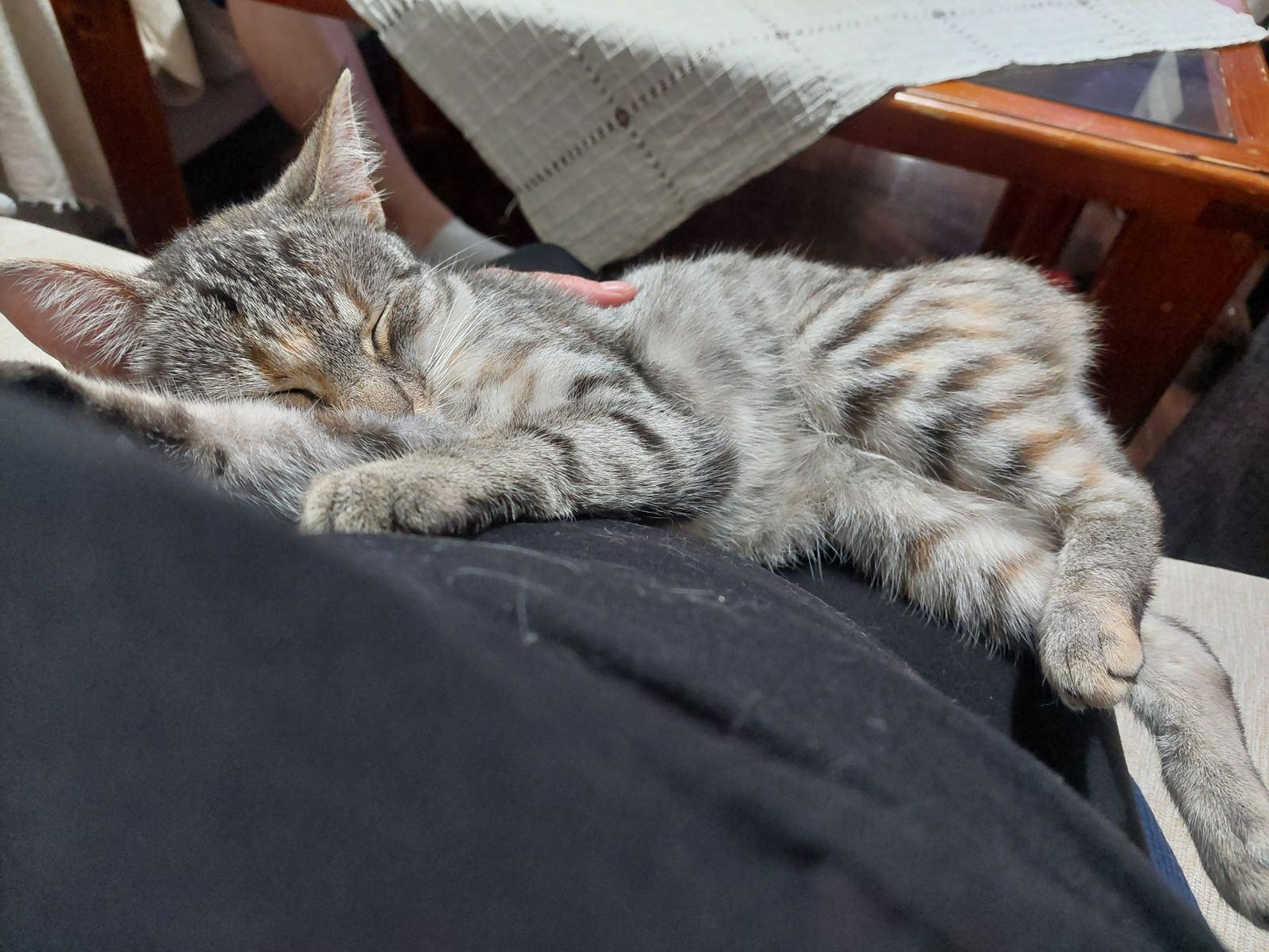macka: (0, 62, 1268, 929)
